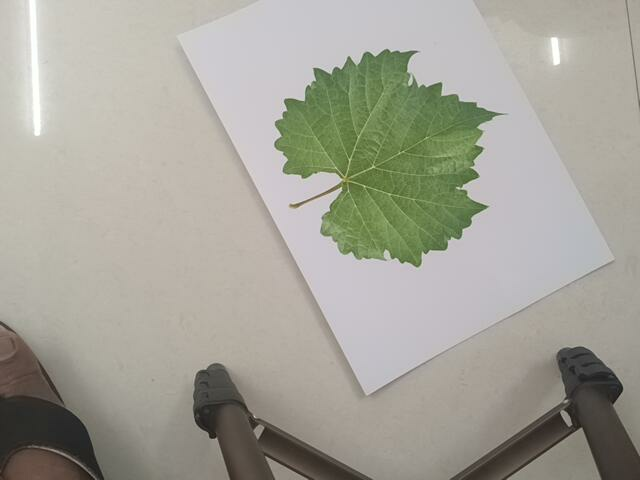Grape_Healthy: (269, 48, 527, 270)
